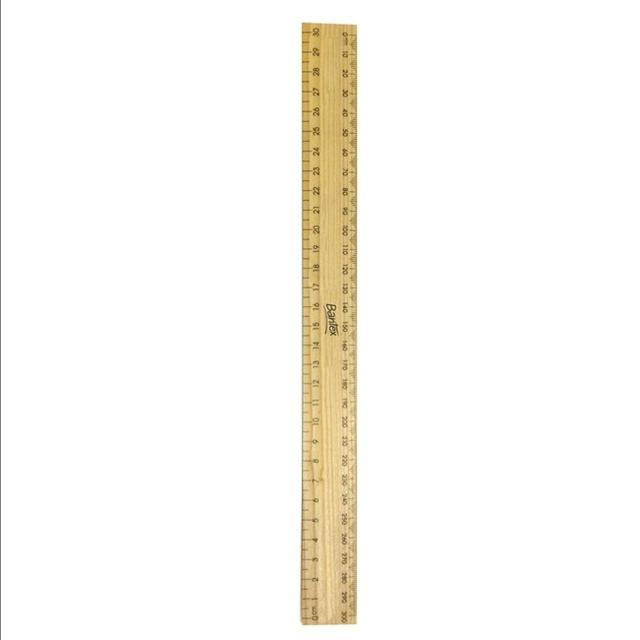Ruler: (295, 16, 364, 631)
